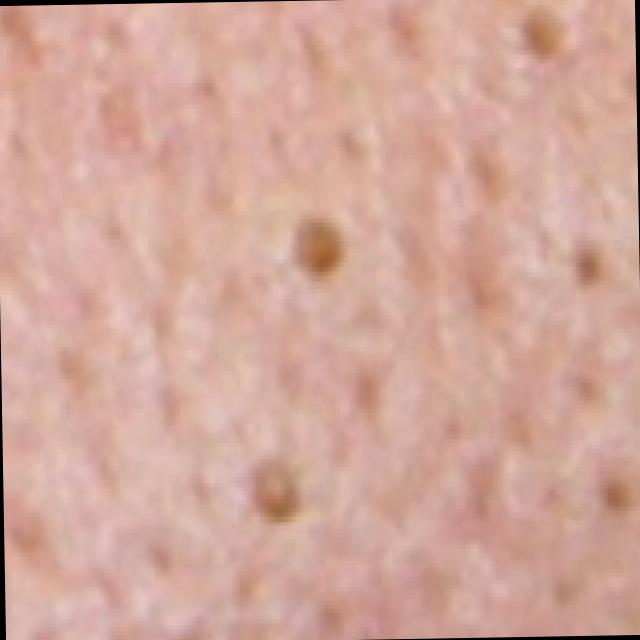blackhead: (294, 225, 339, 273), (256, 468, 297, 518), (526, 15, 562, 52), (606, 480, 632, 510), (576, 253, 600, 281)
